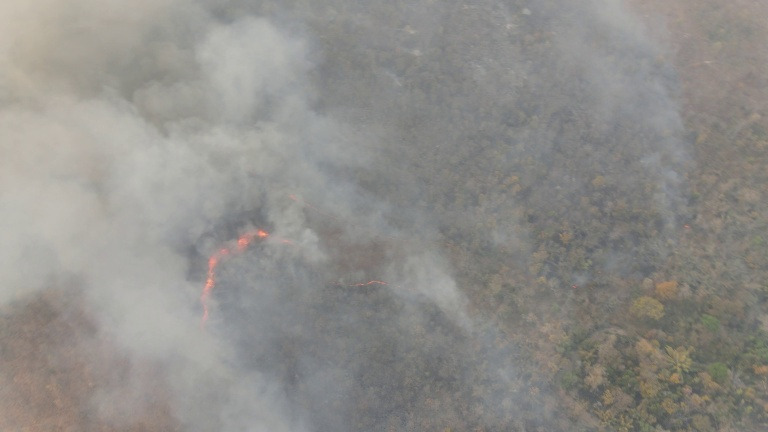fire: (198, 228, 302, 333), (354, 274, 395, 291)
smoke: (1, 29, 293, 407), (587, 7, 698, 208), (386, 244, 462, 313)
